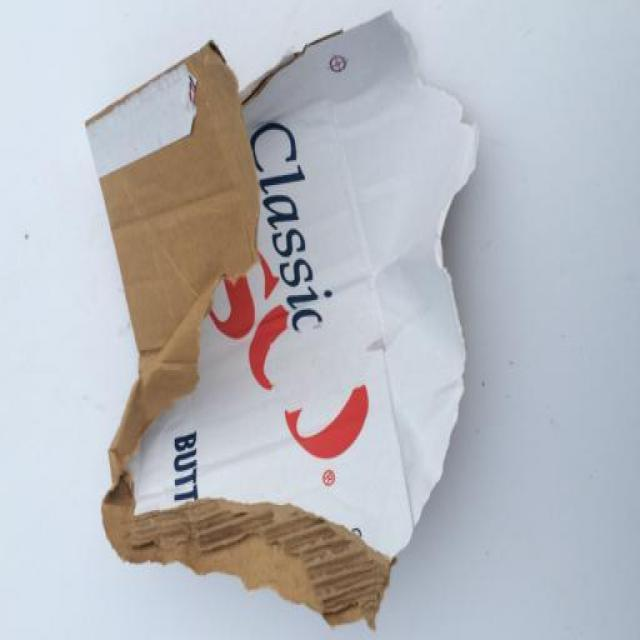cardboard: (101, 16, 446, 584)
